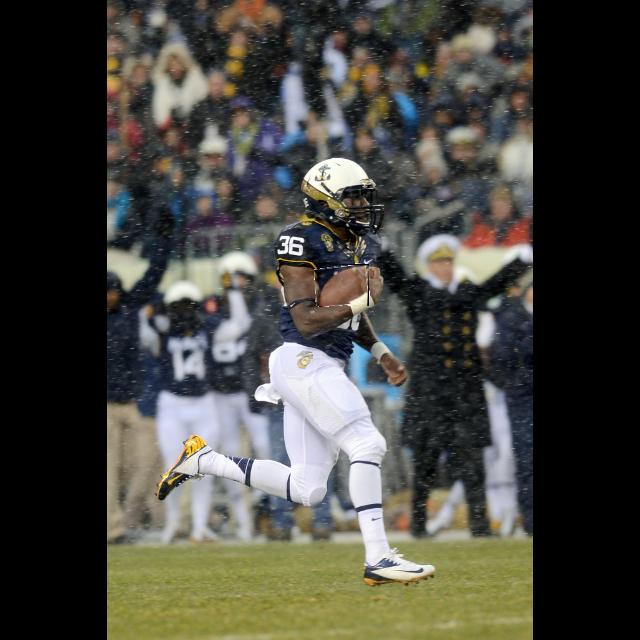Football: (315, 264, 369, 306)
